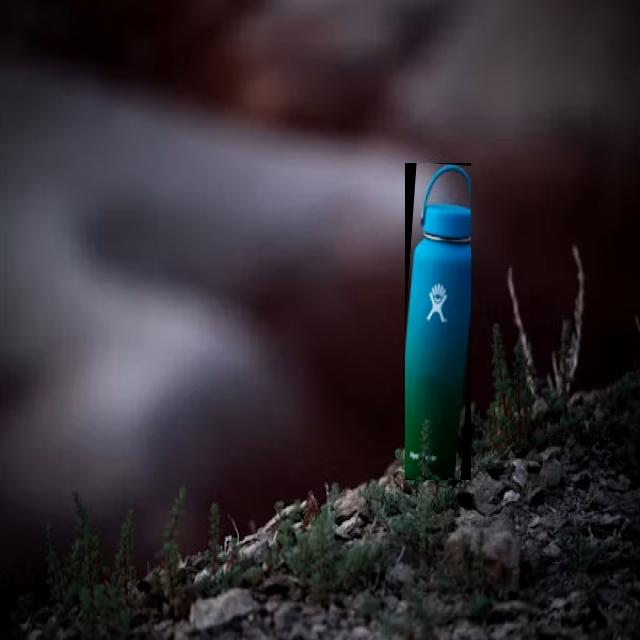Bottle: (406, 163, 471, 480)
